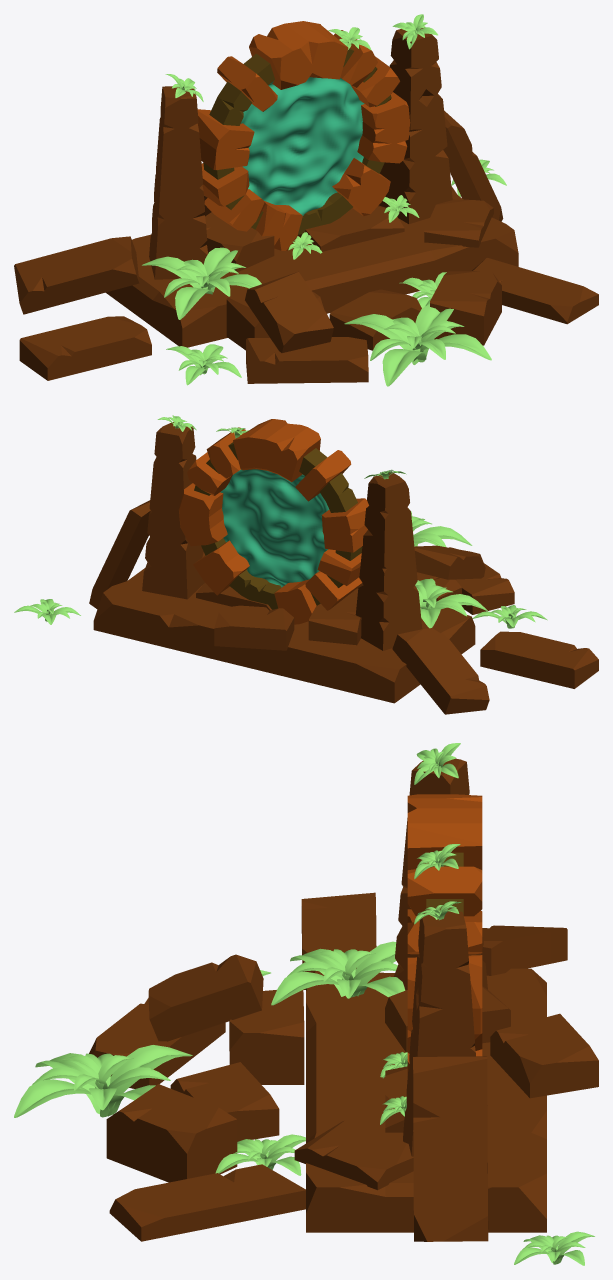
File: uploads_files_2901727_portal.fbx
3 views of the same model, one above another, from view 1: azimuth 30°, elevation 25°; view 2: azimuth 150°, elevation 25°; view 3: azimuth 270°, elevation 25° (orthographic). The views are drawn at different scales.
Visible parts, largest first — view 1: portal; view 2: portal; view 3: portal.
Boxes of the visible parts, x1,y1,x2,y2 form: portal: [14, 14, 598, 386]; portal: [14, 415, 598, 714]; portal: [14, 743, 598, 1265].
Size of the model in its own units: 2277 by 949 by 1578.
